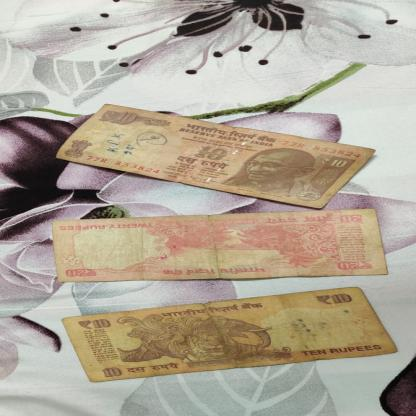Old10Back: (61, 287, 399, 383)
Old10Front: (55, 104, 377, 209)
Old20Back: (53, 209, 389, 283)
